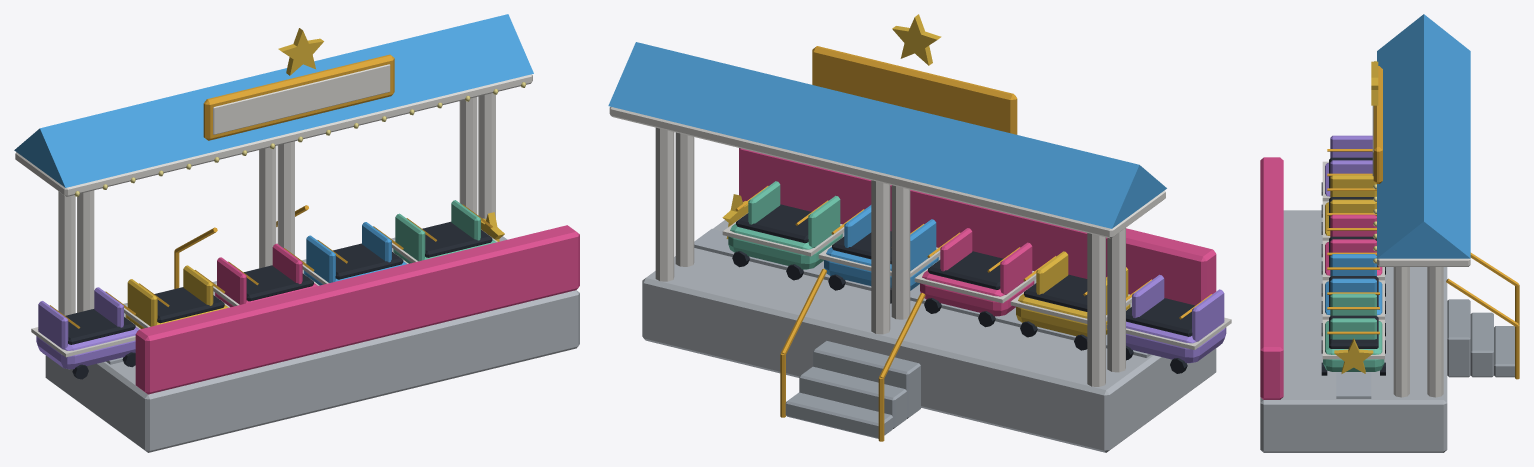
The model's file is park-coaster.glb.
3 renders of one model, left to right at view 1: azimuth 30°, elevation 25°; view 2: azimuth 150°, elevation 25°; view 3: azimuth 270°, elevation 25°, orthographic. The views are drawn at different scales.
Parts seen in each view (by area): view 1: pk_coaster_mesh, pk_coaster_car4_mesh, pk_coaster_car3_mesh, pk_coaster_car0_mesh, pk_coaster_car1_mesh, pk_coaster_car2_mesh; view 2: pk_coaster_mesh, pk_coaster_car3_mesh, pk_coaster_car1_mesh, pk_coaster_car4_mesh, pk_coaster_car0_mesh, pk_coaster_car2_mesh; view 3: pk_coaster_mesh, pk_coaster_car3_mesh, pk_coaster_car2_mesh, pk_coaster_car1_mesh, pk_coaster_car0_mesh, pk_coaster_car4_mesh.
Part boxes in pixels (x1,y1,x2,y2): pk_coaster_mesh: (14,14,579,452); pk_coaster_car4_mesh: (31,287,140,379); pk_coaster_car3_mesh: (392,200,504,263); pk_coaster_car0_mesh: (124,265,229,328); pk_coaster_car1_mesh: (213,243,319,307); pk_coaster_car2_mesh: (302,222,408,285); pk_coaster_mesh: (608,14,1216,452); pk_coaster_car3_mesh: (722,181,844,280); pk_coaster_car1_mesh: (914,228,1036,327); pk_coaster_car4_mesh: (1106,274,1231,373); pk_coaster_car0_mesh: (1010,251,1131,350); pk_coaster_car2_mesh: (818,205,940,303); pk_coaster_mesh: (1260,14,1519,452); pk_coaster_car3_mesh: (1321,293,1385,375); pk_coaster_car2_mesh: (1321,254,1385,336); pk_coaster_car1_mesh: (1321,214,1385,296); pk_coaster_car0_mesh: (1321,175,1376,257); pk_coaster_car4_mesh: (1321,135,1372,217).
Size of the model in its own units: 8.93 by 5.6 by 4.44.
